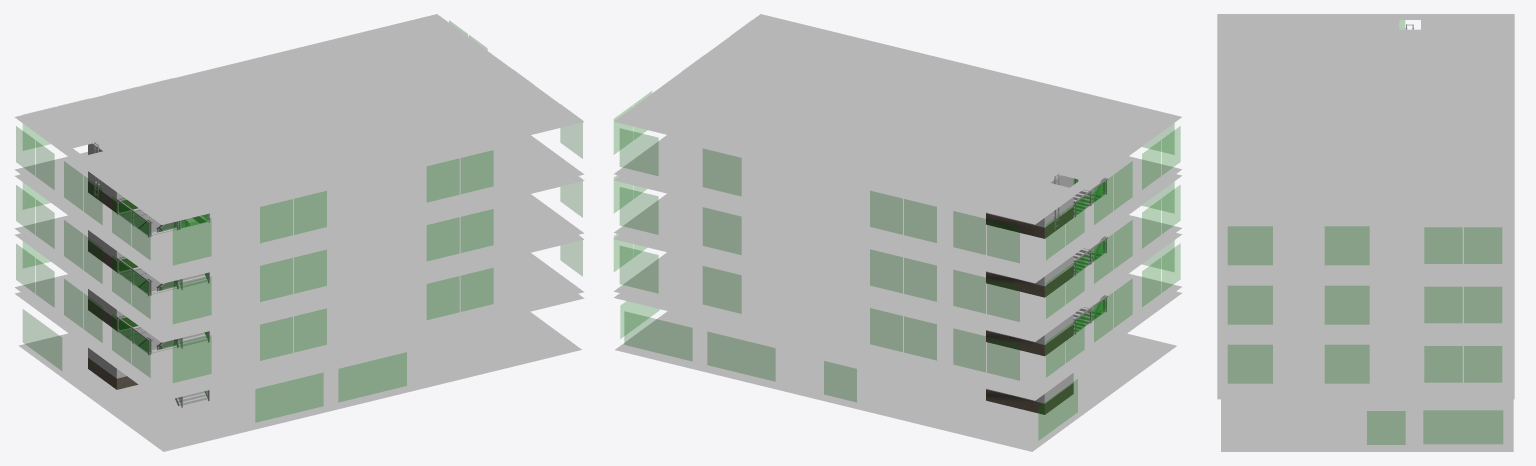
Rendered from SM_Building21_Interior.fbx.
The picture shows the model from 3 angles, left to right: view 1: azimuth 30°, elevation 25°; view 2: azimuth 150°, elevation 25°; view 3: azimuth 270°, elevation 25°; orthographic projection.
Visible parts, largest first — view 1: SM_Building21_Interior; view 2: SM_Building21_Interior; view 3: SM_Building21_Interior.
Part boxes in pixels (left/top/right/bottom): SM_Building21_Interior: left=14, top=14, right=584, bottom=451; SM_Building21_Interior: left=613, top=14, right=1181, bottom=451; SM_Building21_Interior: left=1217, top=14, right=1514, bottom=451.
Bounding box in the file's own units: 3122 × 1713 × 1922.
